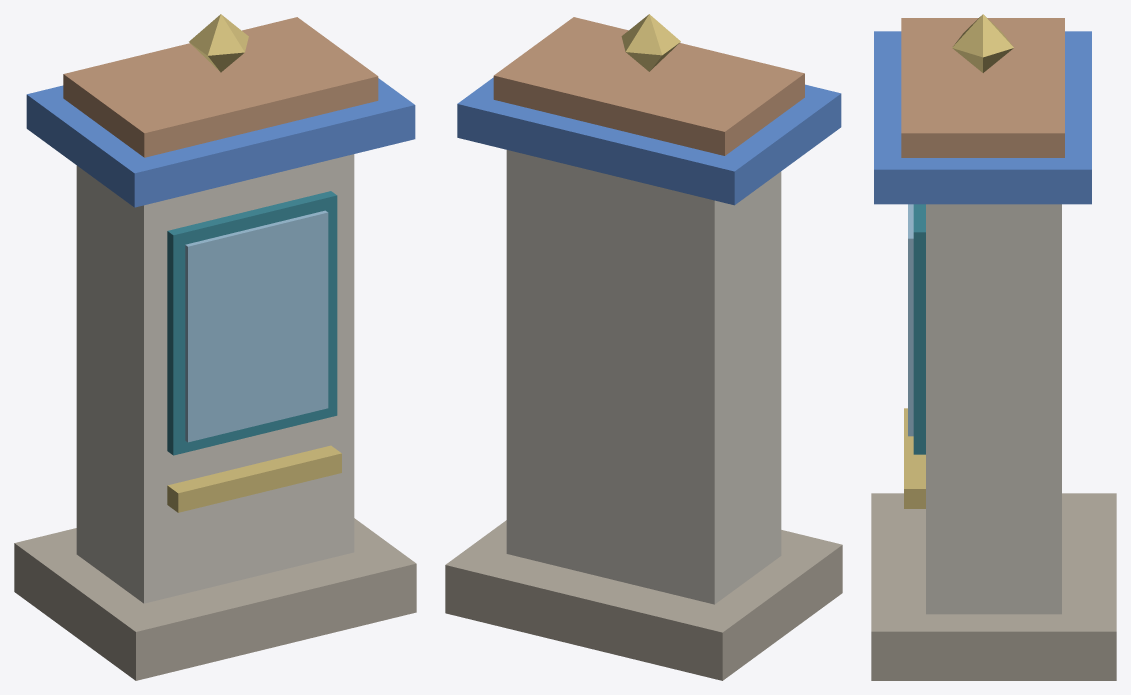
Rendered from wayfinding_kiosk.glb.
3 views of the same model, side by side, from view 1: azimuth 30°, elevation 25°; view 2: azimuth 150°, elevation 25°; view 3: azimuth 270°, elevation 25° (orthographic). The views are drawn at different scales.
Size of the model in its own units: 1.2 by 2.42 by 0.9.
